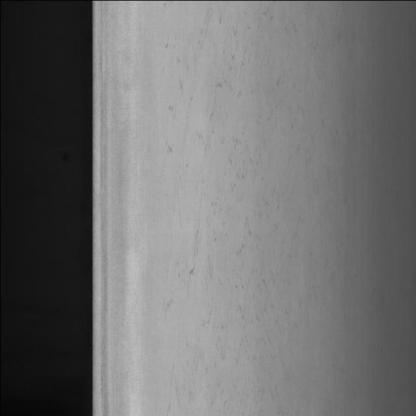silk_spot: (168, 30, 275, 372)
